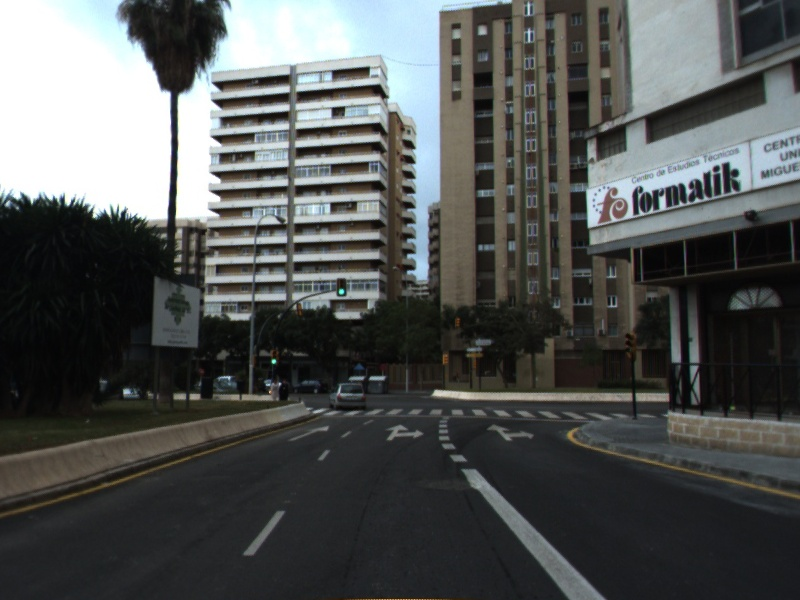STRAIGHT: (285, 424, 332, 443)
STRAIGHT_RIGHT: (485, 422, 537, 443), (383, 422, 427, 442)
